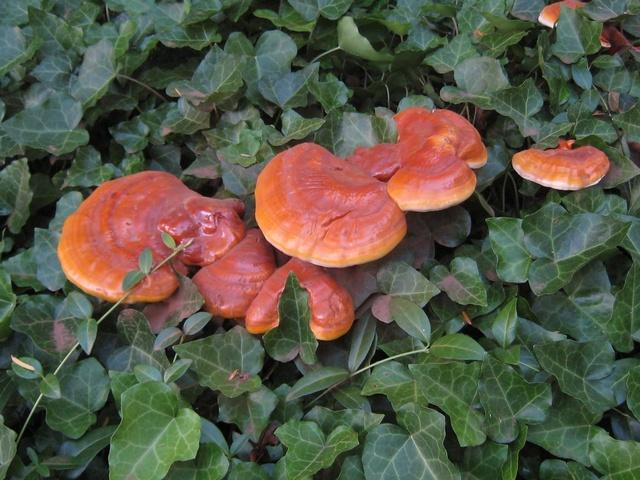poisonous_mushroom: (228, 88, 484, 369), (56, 169, 246, 304), (253, 141, 407, 268), (510, 137, 610, 191)
